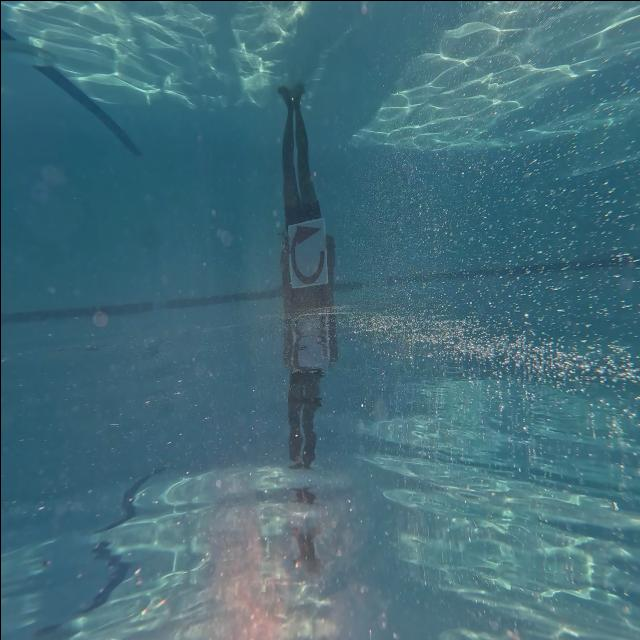red_side: (288, 222, 326, 286)
